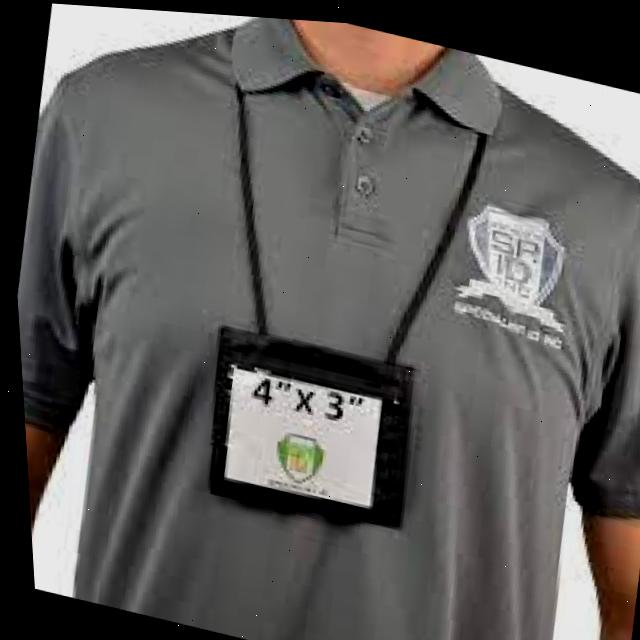id_card: (147, 48, 517, 551)
